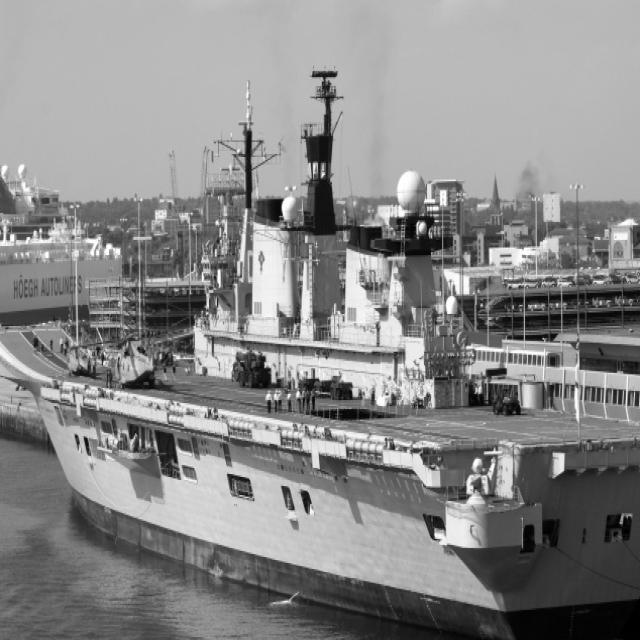Portanaves: (1, 42, 640, 640)
